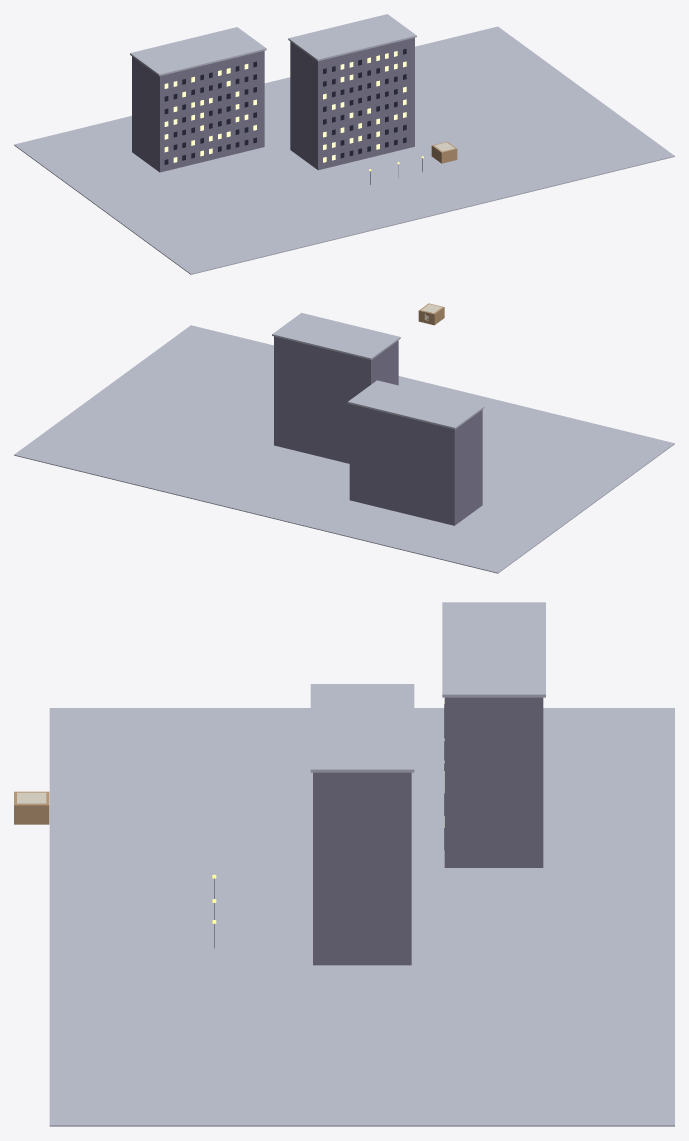
The model's file is bedroom.glb.
3 views of the same model, one above another, from view 1: azimuth 30°, elevation 25°; view 2: azimuth 150°, elevation 25°; view 3: azimuth 270°, elevation 25° (orthographic). The views are drawn at different scales.
Parts seen in each view (by area): view 1: Ground, Building_Front, Building_Left; view 2: Ground, Building_Left, Building_Front; view 3: Ground, Building_Front, Building_Left, Walls.
Boxes of the visible parts, box(x1,y1,x2,y2) form: Ground: box(14, 26, 674, 274); Building_Front: box(288, 14, 416, 170); Building_Left: box(130, 27, 266, 172); Ground: box(14, 325, 674, 573); Building_Left: box(347, 380, 484, 525); Building_Front: box(272, 313, 400, 463); Ground: box(49, 708, 674, 1126); Building_Front: box(310, 684, 414, 965); Building_Left: box(442, 602, 545, 867); Walls: box(14, 791, 49, 824).
Size of what is drawn, in the model's own units: 120 by 26.6 by 80.35.
